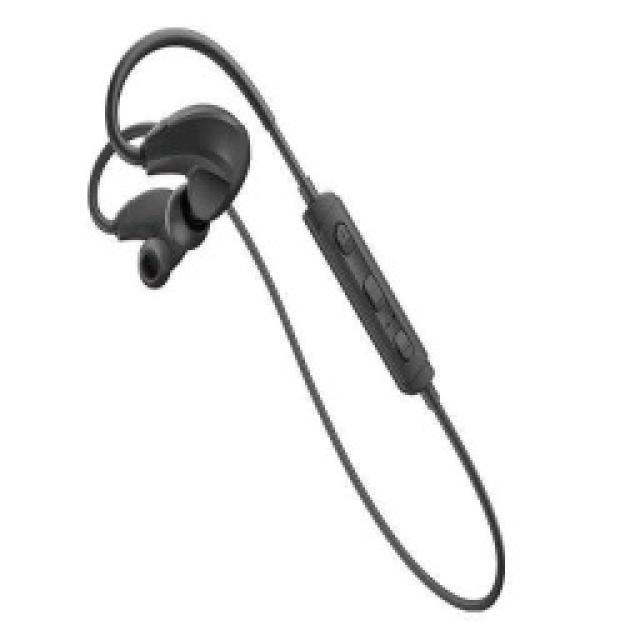headphones: (85, 22, 505, 610)
